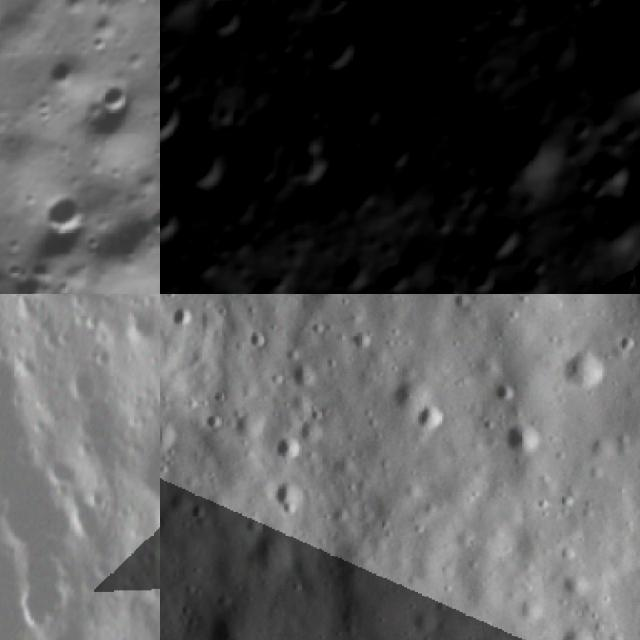crater: (470, 92, 570, 195), (578, 17, 640, 120), (296, 6, 374, 82), (550, 333, 624, 408), (27, 179, 101, 251), (569, 131, 640, 205), (476, 405, 550, 476), (166, 130, 237, 201), (467, 200, 535, 271), (601, 141, 640, 238), (188, 0, 260, 50), (318, 243, 373, 294), (89, 73, 141, 125), (409, 386, 458, 441), (160, 295, 208, 349), (373, 365, 422, 417), (262, 420, 311, 472), (362, 251, 421, 294), (160, 176, 195, 247), (160, 81, 194, 149), (263, 472, 310, 521), (410, 265, 475, 294), (457, 255, 503, 294), (379, 130, 420, 173), (549, 611, 606, 640), (46, 452, 82, 496), (160, 47, 188, 94), (435, 294, 480, 318), (565, 0, 614, 17), (478, 0, 516, 21)
